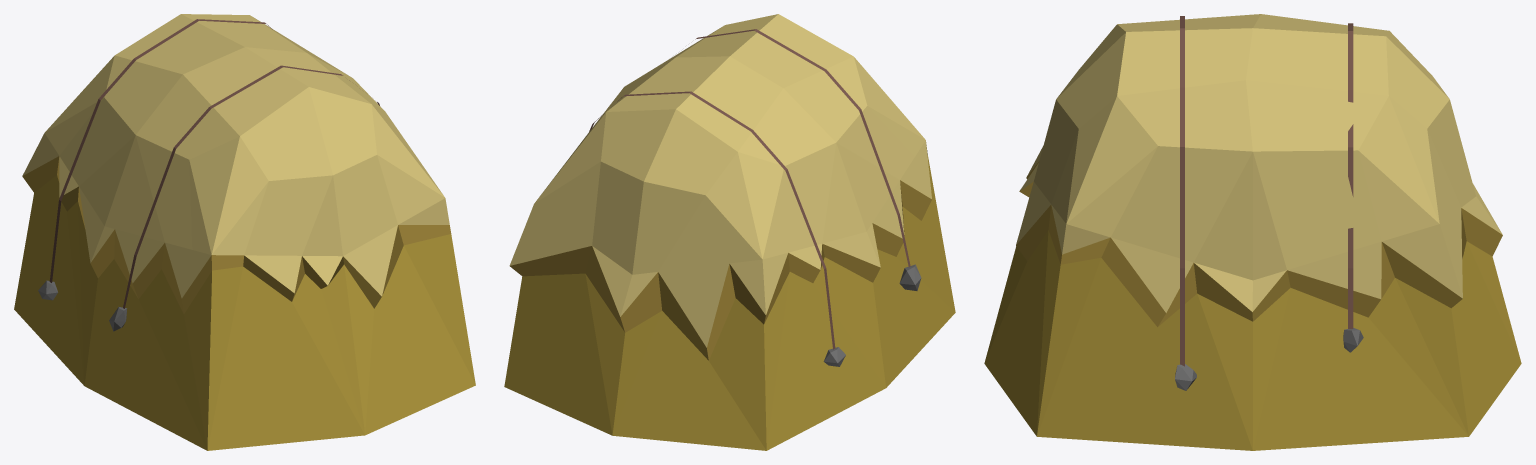
The model's file is SM_Hay.fbx.
The picture shows the model from 3 angles, left to right: view 1: azimuth 30°, elevation 25°; view 2: azimuth 150°, elevation 25°; view 3: azimuth 270°, elevation 25°; orthographic projection. The views are drawn at different scales.
Visible parts, largest first — view 1: SM_Hay; view 2: SM_Hay; view 3: SM_Hay.
Part boxes in pixels (x1=…): SM_Hay: x1=14, y1=14, x2=475, y2=450; SM_Hay: x1=504, y1=14, x2=955, y2=450; SM_Hay: x1=984, y1=14, x2=1521, y2=450.
Size of the model in its own units: 558 by 499 by 719.
1 material, 1 textured.
